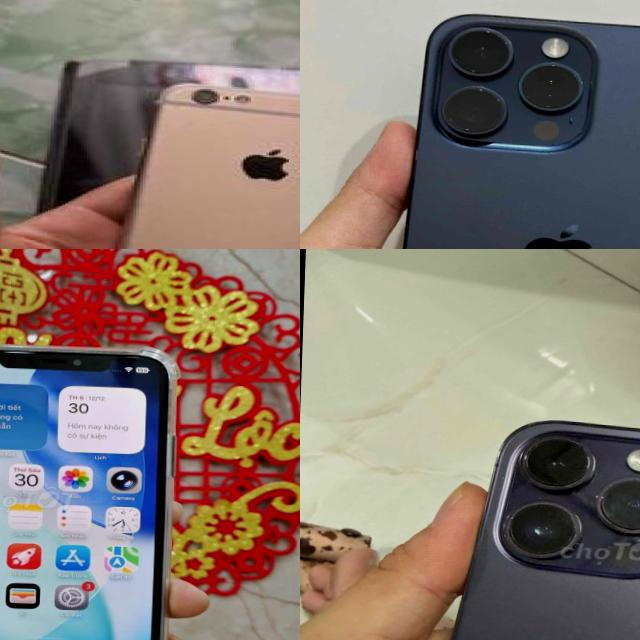gen_11: (0, 330, 188, 640)
gen_14: (382, 411, 640, 640)
gen_15: (367, 8, 640, 249)
gen_6: (90, 70, 300, 249)
scratch: (412, 16, 592, 150)
